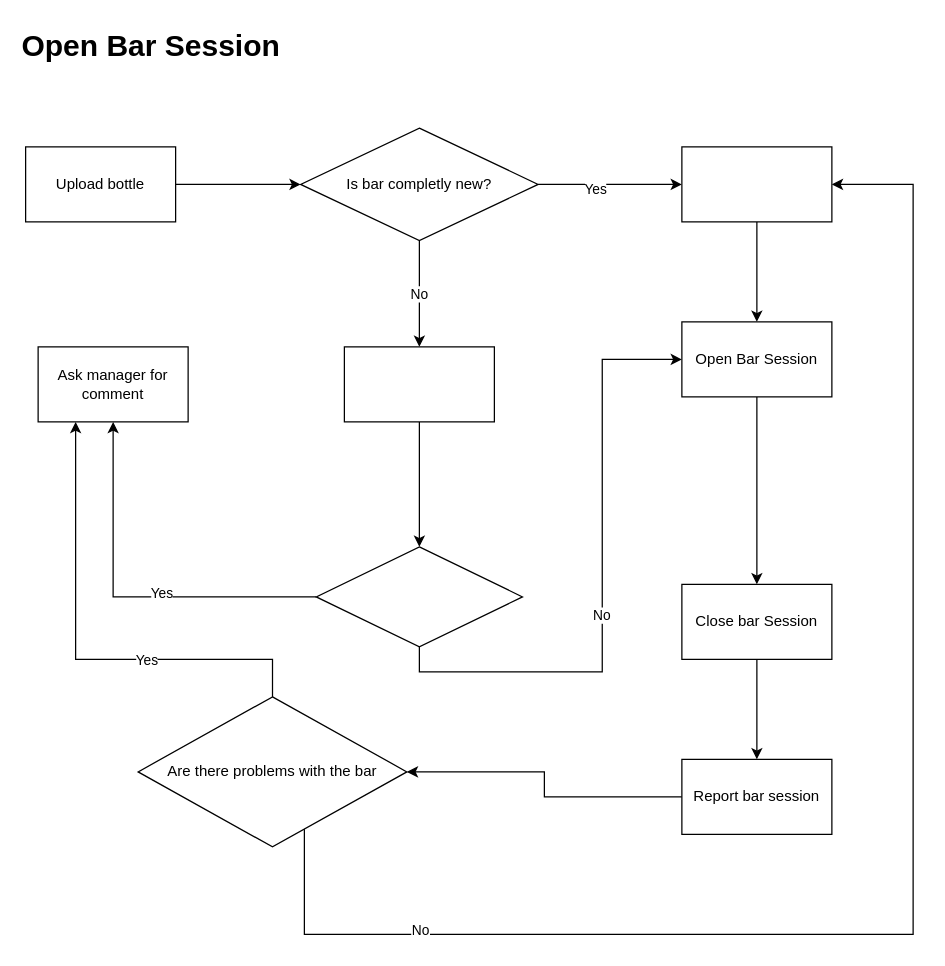
The diagram is 945 pixels wide and 966 high, and some of its shapes have lost their labels. The shapes that lost their labels are listed below. From the top down, each one's centre as x and y in pixels, then its label:
At (756,184): "Record all bottle weights".
At (418,384): "Compare against last stock count".
At (418,596): "Is there stock missing?".
